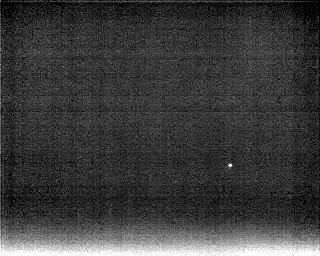BIRD: (226, 160, 235, 171)
